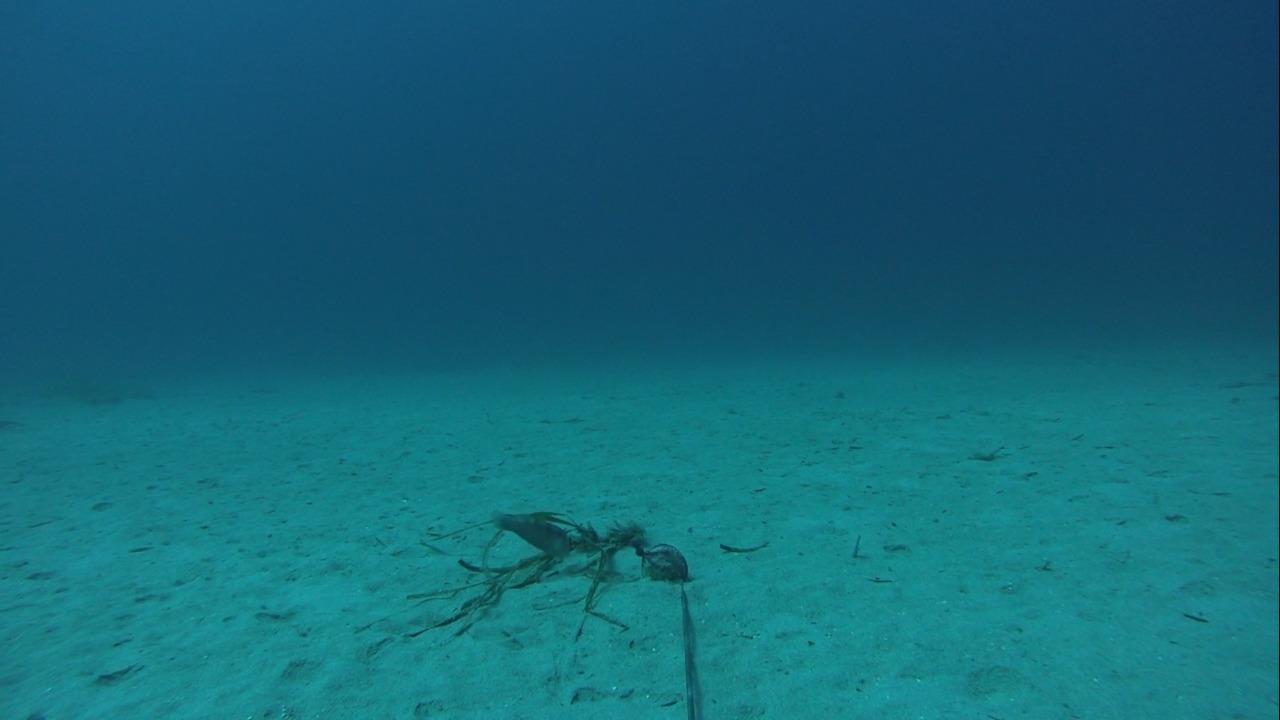raor: (485, 502, 578, 562)
